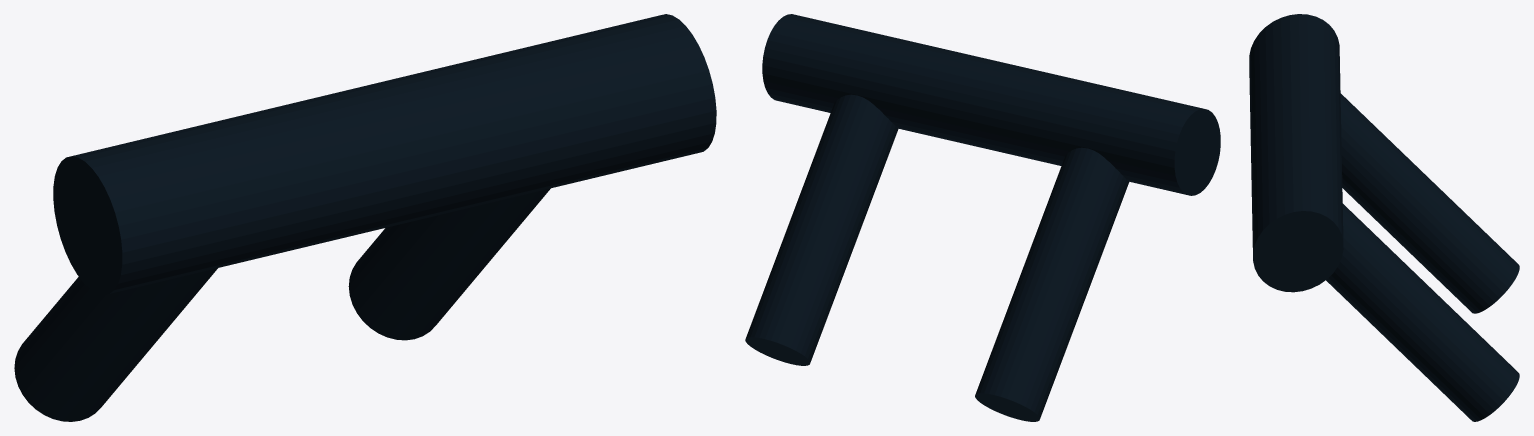
Rendered from LeverModel.obj.
The picture shows the model from 3 angles, left to right: view 1: azimuth 30°, elevation 25°; view 2: azimuth 150°, elevation 25°; view 3: azimuth 270°, elevation 25°; orthographic projection. The views are drawn at different scales.
Visible parts, largest first — view 1: Cylinder.002, Cylinder, Cylinder.001; view 2: Cylinder.002, Cylinder, Cylinder.001; view 3: Cylinder.002, Cylinder.001, Cylinder.
Boxes of the visible parts, x1,y1,x2,y2 form: Cylinder.002: (53,14,716,295); Cylinder: (14,268,217,421); Cylinder.001: (348,188,550,340); Cylinder.002: (762,14,1220,195); Cylinder: (975,147,1129,421); Cylinder.001: (745,94,898,365); Cylinder.002: (1249,14,1343,292); Cylinder.001: (1326,203,1519,421); Cylinder: (1340,93,1519,313).
Size of the model in its own units: 0.6625 by 0.4067 by 0.3911.
